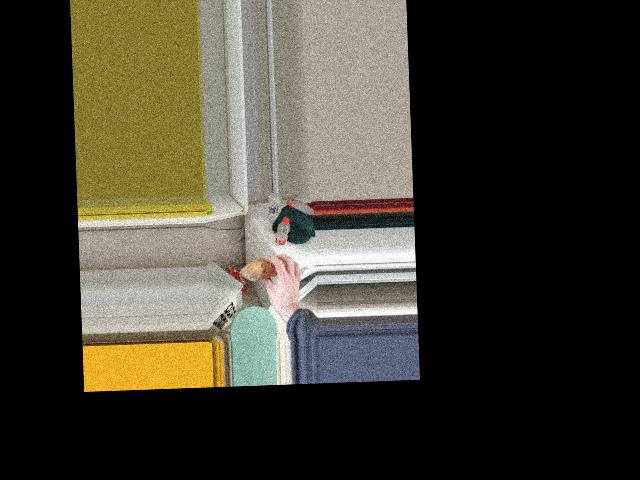sweet_potato: (248, 260, 282, 276)
